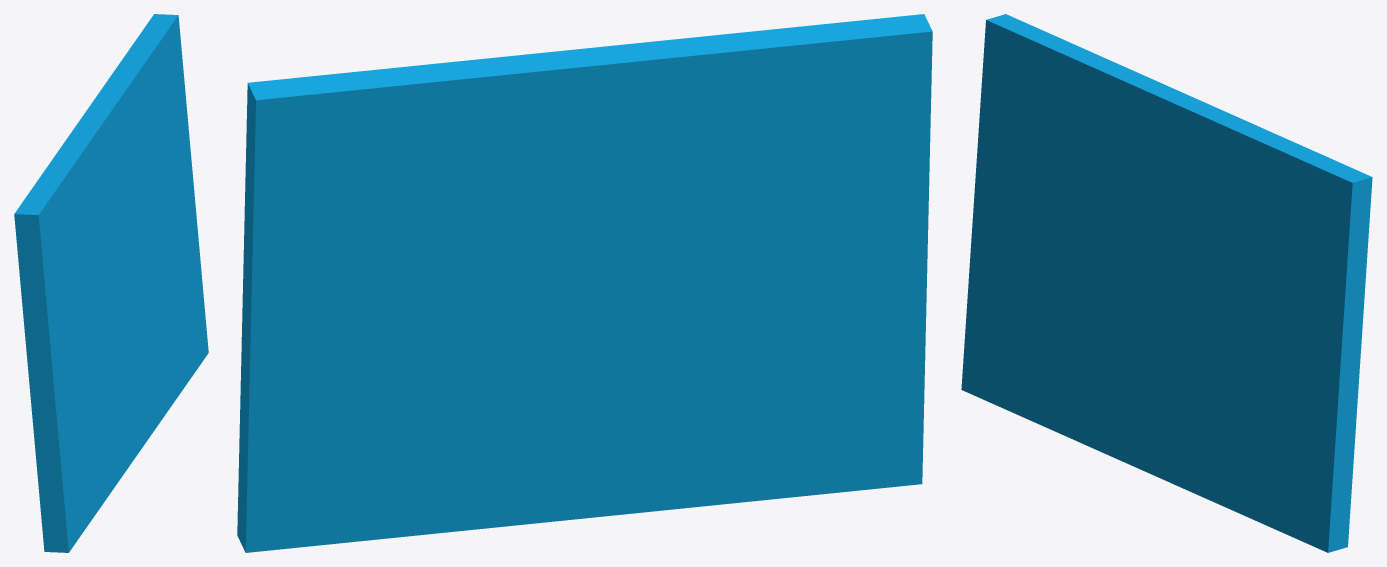
3 renders of one model, left to right at view 1: azimuth 30°, elevation 25°; view 2: azimuth 150°, elevation 25°; view 3: azimuth 270°, elevation 25°, orthographic. The views are drawn at different scales.
Parts seen in each view (by area): view 1: Cube.001; view 2: Cube.001; view 3: Cube.001.
Boxes of the visible parts, x1=… form: Cube.001: x1=14, y1=14, x2=208, y2=552; Cube.001: x1=237, y1=14, x2=932, y2=552; Cube.001: x1=961, y1=14, x2=1372, y2=552.
Bounding box in the file's own units: 0.99 × 0.9242 × 0.9506.
